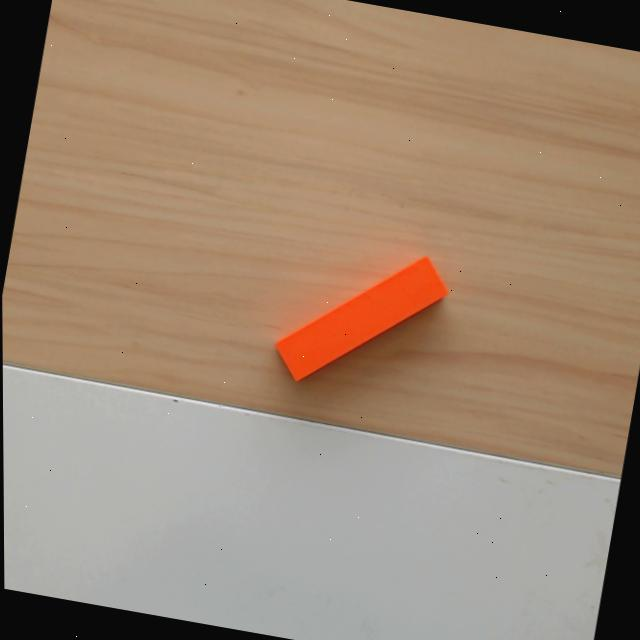Balok-Jingga-1002525: (272, 255, 449, 383)
